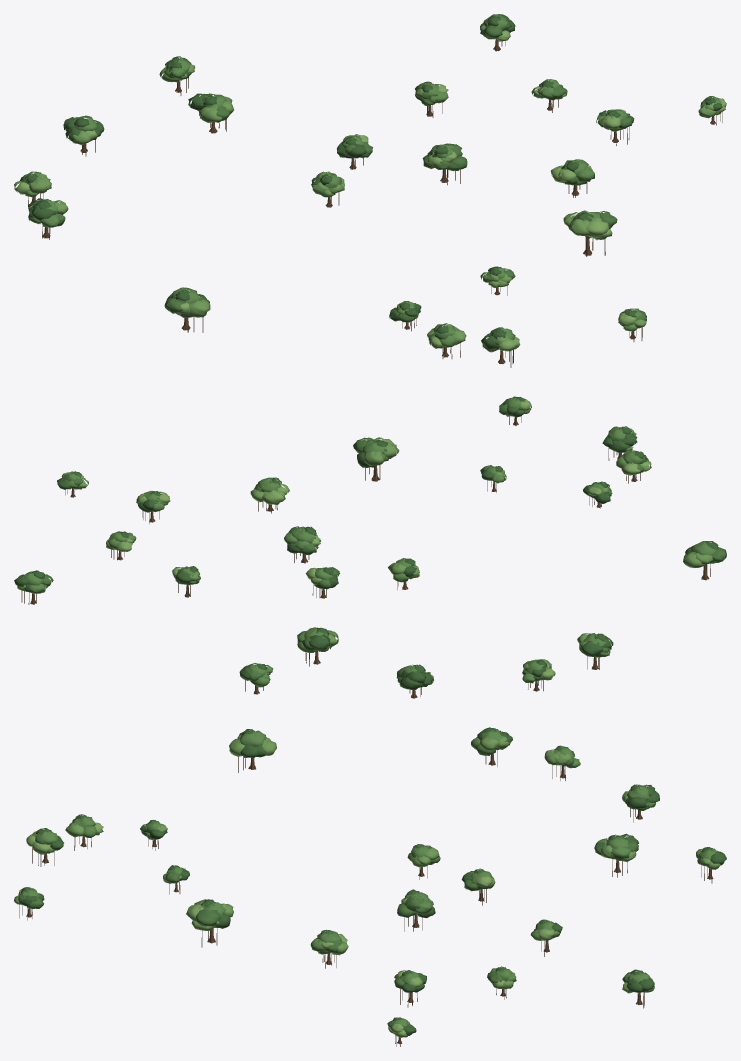
The picture shows the model from 3 angles, top to bottom: view 1: azimuth 30°, elevation 25°; view 2: azimuth 150°, elevation 25°; view 3: azimuth 270°, elevation 25°; orthographic projection. The views are drawn at different scales.
Size of the model in its own units: 12.68 by 0.8133 by 13.09.
